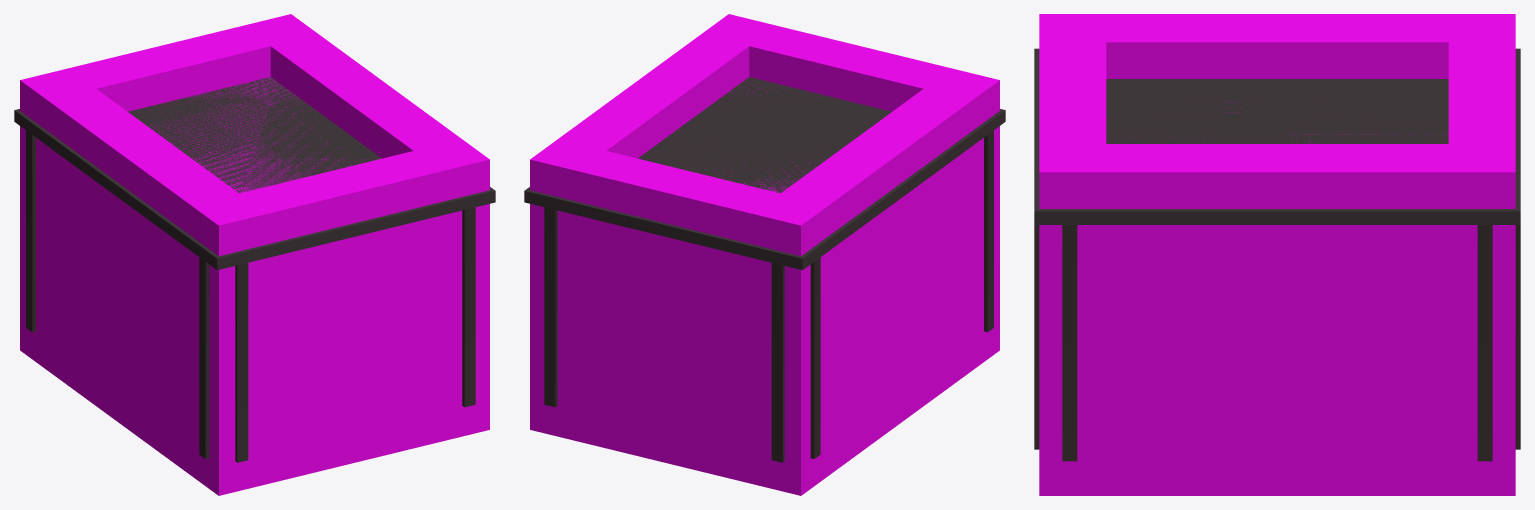
File: interior-boathouse.glb
The picture shows the model from 3 angles, left to right: view 1: azimuth 30°, elevation 25°; view 2: azimuth 150°, elevation 25°; view 3: azimuth 270°, elevation 25°; orthographic projection. The views are drawn at different scales.
Parts seen in each view (by area): view 1: Col_wall_front, Col_wall_left, Interior boathouse Plaster, Col_ceiling, Col_wall_right, Col_wall_back; view 2: Col_wall_back, Col_wall_left, Interior boathouse Plaster, Col_ceiling, Col_wall_right, Col_wall_front; view 3: Col_wall_right, Interior boathouse Plaster, Col_wall_front, Col_wall_back, Col_wall_left, Col_ceiling.
Part boxes in pixels (x1,y1,x2,y2): Col_wall_front: (191, 139, 489, 495); Col_wall_left: (21, 89, 267, 495); Interior boathouse Plaster: (14, 77, 495, 462); Col_ceiling: (20, 77, 489, 317); Col_wall_right: (244, 14, 489, 441); Col_wall_back: (20, 14, 317, 370); Col_wall_back: (530, 139, 828, 495); Col_wall_left: (752, 85, 999, 495); Interior boathouse Plaster: (524, 77, 1005, 462); Col_ceiling: (530, 81, 999, 317); Col_wall_right: (530, 14, 774, 441); Col_wall_front: (701, 14, 999, 369); Col_wall_right: (1039, 144, 1515, 495); Interior boathouse Plaster: (1034, 48, 1520, 461); Col_wall_front: (1039, 14, 1106, 495); Col_wall_back: (1448, 14, 1515, 495); Col_wall_left: (1039, 14, 1515, 78); Col_ceiling: (1039, 133, 1515, 282).
Size of the model in its own units: 7.6 by 7.05 by 9.6.
